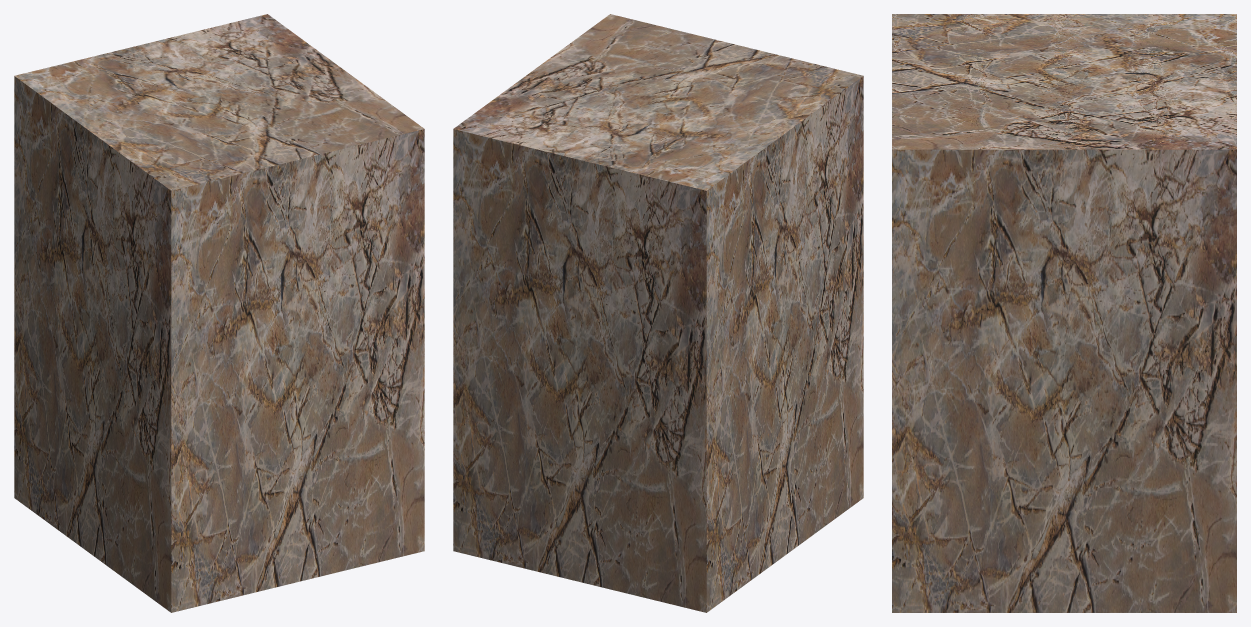
File: Magnet_Box.FBX
3 renders of one model, left to right at view 1: azimuth 30°, elevation 25°; view 2: azimuth 150°, elevation 25°; view 3: azimuth 270°, elevation 25°, orthographic. The views are drawn at different scales.
Visible parts, largest first — view 1: Magnet_Box; view 2: Magnet_Box; view 3: Magnet_Box.
Boxes of the visible parts, bbox=[...] form: Magnet_Box: bbox=[14, 14, 424, 612]; Magnet_Box: bbox=[453, 14, 863, 612]; Magnet_Box: bbox=[892, 14, 1236, 612].
Size of the model in its own units: 53.92 by 57.89 by 85.82.
1 material, 1 textured.
